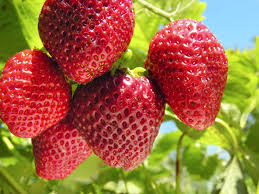ripe: (147, 15, 231, 135), (75, 74, 163, 175), (36, 1, 139, 86), (2, 46, 74, 142), (27, 116, 77, 183)
